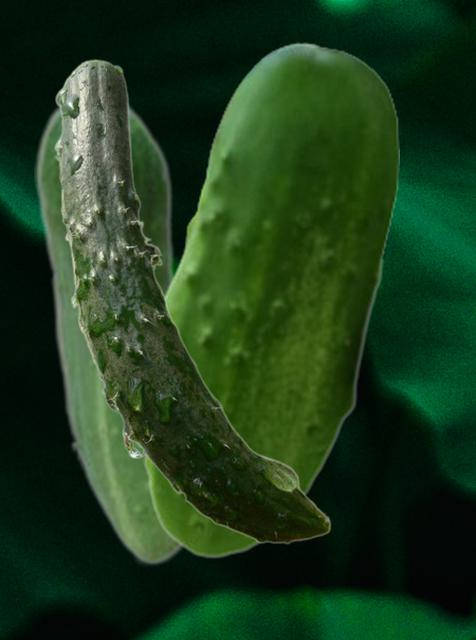cucumber: (53, 59, 330, 543), (143, 42, 398, 558), (34, 101, 183, 565)
